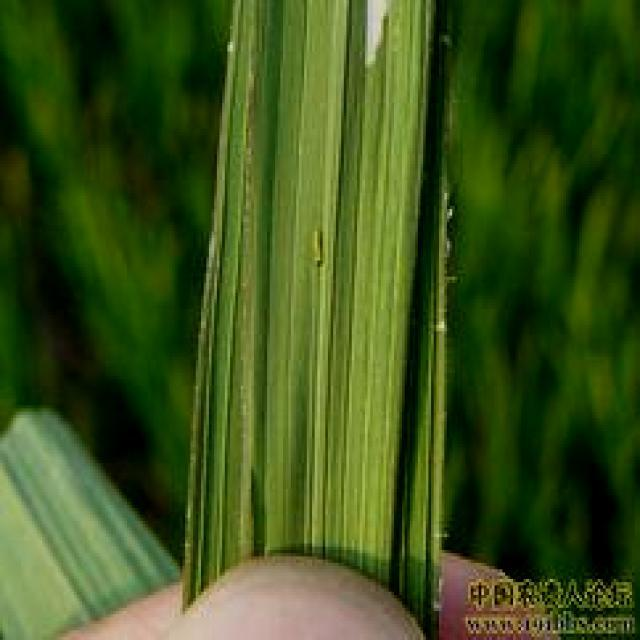leaf folder: (312, 227, 328, 269)
